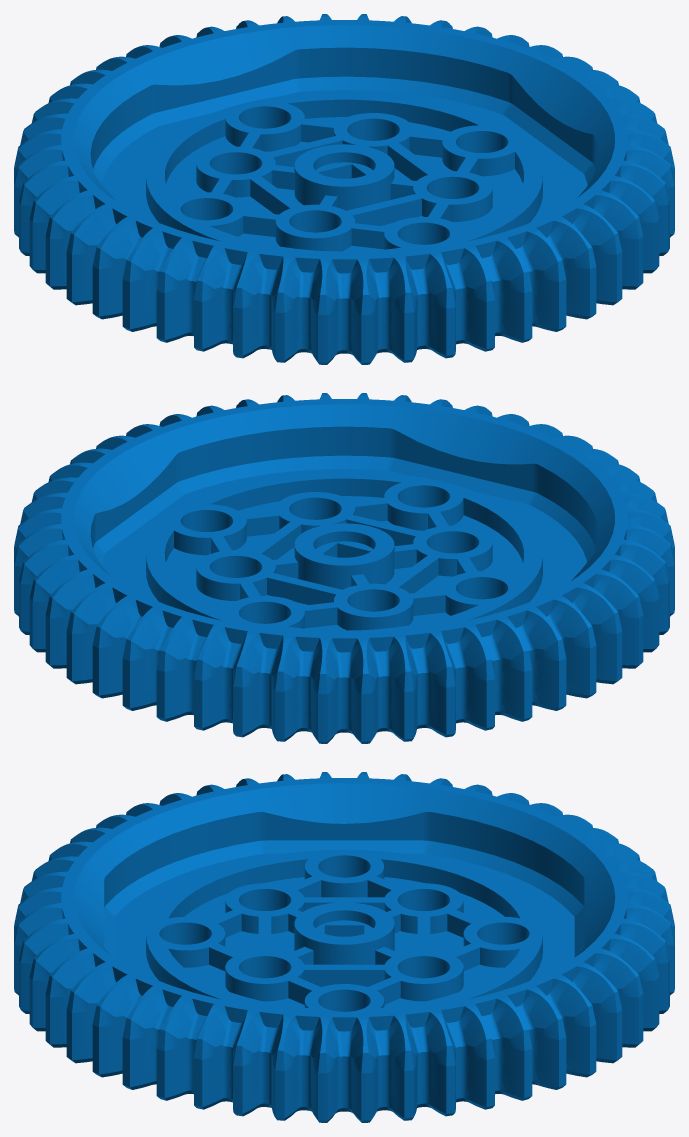
The picture shows the model from 3 angles, top to bottom: view 1: azimuth 30°, elevation 25°; view 2: azimuth 150°, elevation 25°; view 3: azimuth 270°, elevation 25°; orthographic projection.
Parts seen in each view (by area): view 1: 48-Tooth Hybrid Gear (228-2500-253); view 2: 48-Tooth Hybrid Gear (228-2500-253); view 3: 48-Tooth Hybrid Gear (228-2500-253).
Boxes of the visible parts, x1,y1,x2,y2 form: 48-Tooth Hybrid Gear (228-2500-253): [14, 14, 674, 364]; 48-Tooth Hybrid Gear (228-2500-253): [14, 393, 674, 743]; 48-Tooth Hybrid Gear (228-2500-253): [14, 772, 674, 1122].
Bounding box in the file's own units: 0.0528 × 0.00864 × 0.0528.
